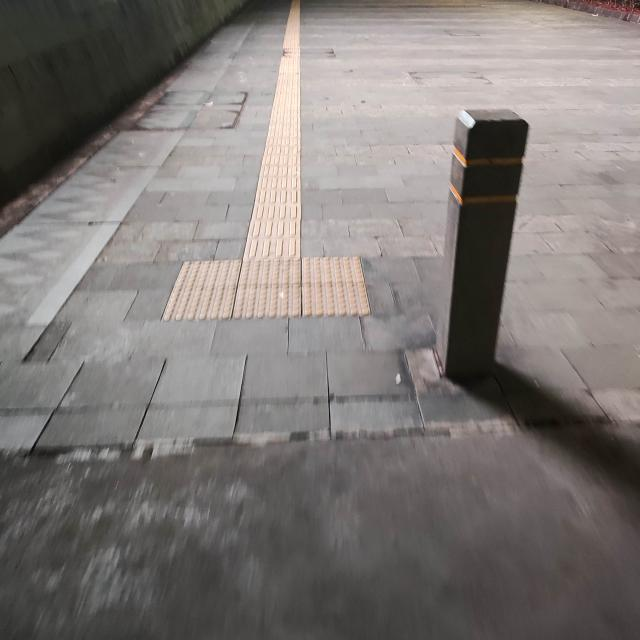lurus: (240, 26, 326, 259)
